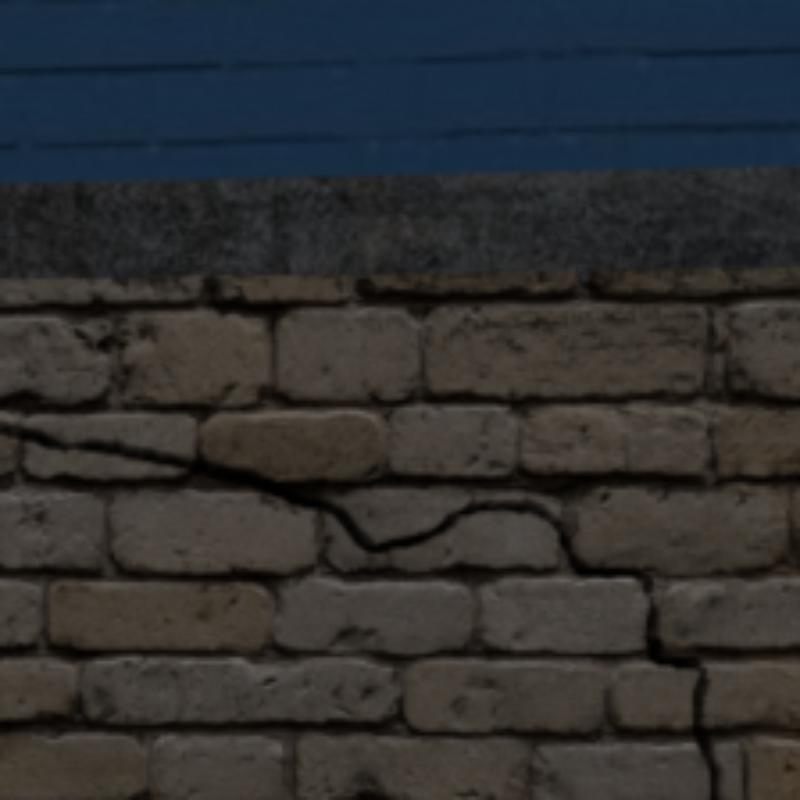pothole: (0, 421, 718, 796)
